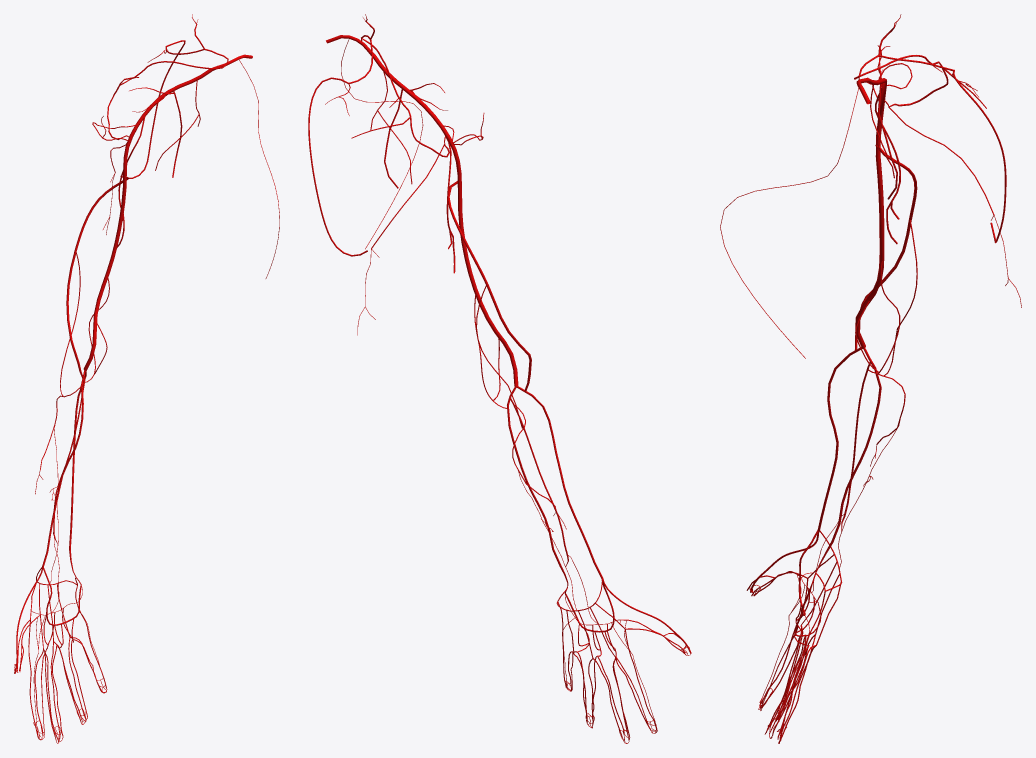
Rendered from Upper limb Arteries.fbx.
The picture shows the model from 3 angles, left to right: view 1: azimuth 30°, elevation 25°; view 2: azimuth 150°, elevation 25°; view 3: azimuth 270°, elevation 25°; orthographic projection. The views are drawn at different scales.
Parts seen in each view (by area): view 1: Proper_palmar_digital, Dorsal_digital, Brachial, Axillary, Radial, Ulnar, Dorsal_scapular_transverse_scapular_deep_branch; view 2: Dorsal_digital, Proper_palmar_digital, Brachial, Dorsal_scapular_transverse_scapular_deep_branch, Axillary, Radial; view 3: Dorsal_digital, Proper_palmar_digital, Brachial, Dorsal_scapular_transverse_scapular_deep_branch, Ulnar, Radial.
Boxes of the visible parts, left/top/right/bottom form: Proper_palmar_digital: left=14, top=567, right=107, bottom=741; Dorsal_digital: left=14, top=619, right=106, bottom=743; Brachial: left=83, top=170, right=126, bottom=370; Axillary: left=123, top=69, right=211, bottom=170; Radial: left=31, top=370, right=85, bottom=596; Ulnar: left=69, top=371, right=86, bottom=577; Dorsal_scapular_transverse_scapular_deep_branch: left=120, top=40, right=204, bottom=178; Dorsal_digital: left=562, top=628, right=690, bottom=743; Proper_palmar_digital: left=562, top=578, right=691, bottom=738; Brachial: left=457, top=173, right=518, bottom=386; Dorsal_scapular_transverse_scapular_deep_branch: left=308, top=39, right=372, bottom=256; Axillary: left=373, top=54, right=461, bottom=174; Radial: left=516, top=386, right=609, bottom=614; Dorsal_digital: left=752, top=572, right=816, bottom=743; Proper_palmar_digital: left=746, top=532, right=819, bottom=739; Brachial: left=855, top=136, right=884, bottom=348; Dorsal_scapular_transverse_scapular_deep_branch: left=879, top=55, right=1006, bottom=243; Ulnar: left=815, top=348, right=881, bottom=572; Radial: left=817, top=347, right=862, bottom=562.
Size of the model in its own units: 37.4 by 81.72 by 26.58.
